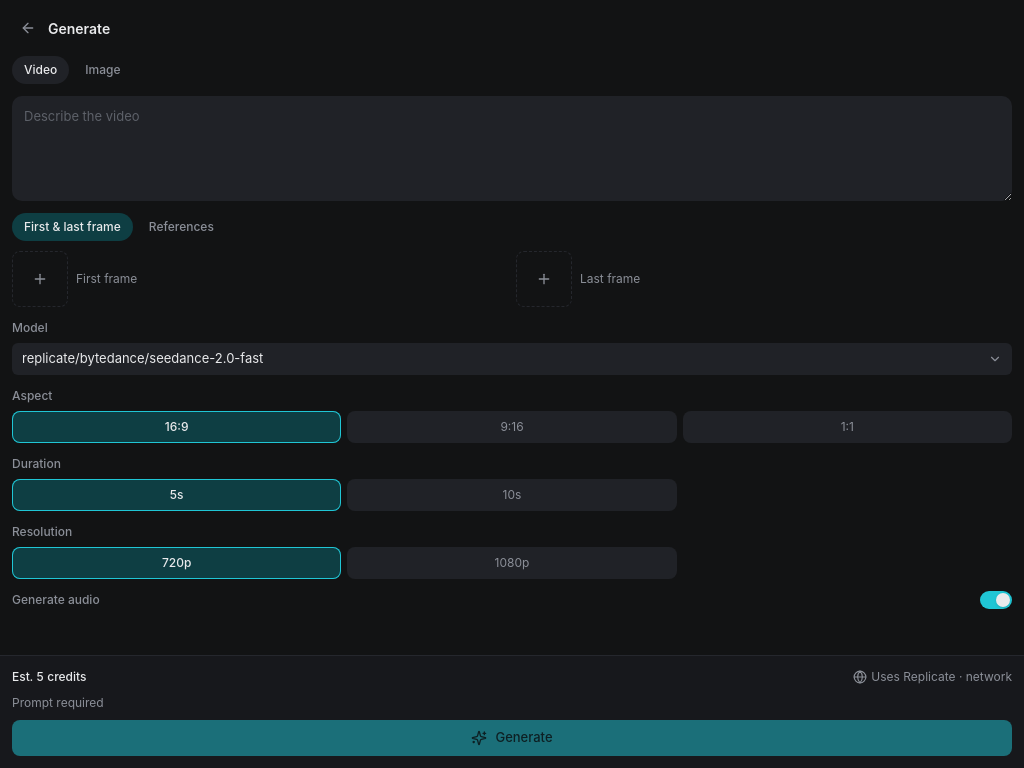
Test: GenerateView › disables Generate on an empty prompt and shows the reason, cost and network notice
Expected: the button "Generate" is disabled, [12,720,1012,756]
Expected: the text "Uses Replicate · network" is shown, [871,668,1012,686]
Type "A brass phonograph" into the text box named "Prompt" at [512, 148], box [12,96,1012,200]
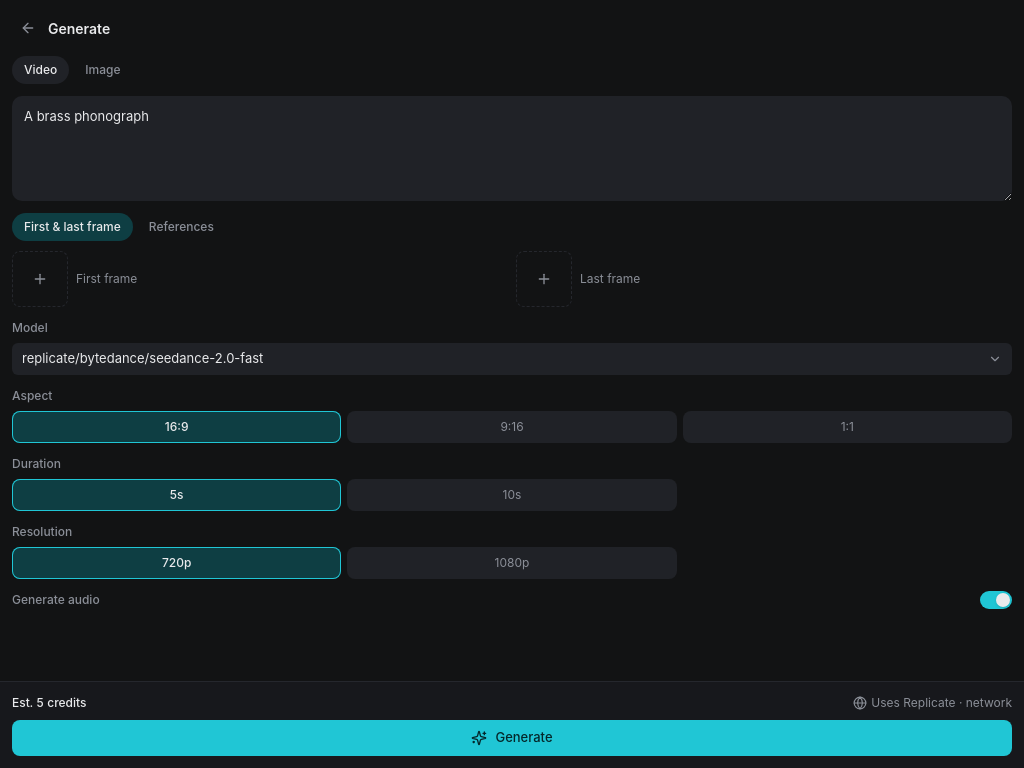
Now the button "Generate" is enabled, box [12,720,1012,756]
Now the text "Prompt required" is gone
